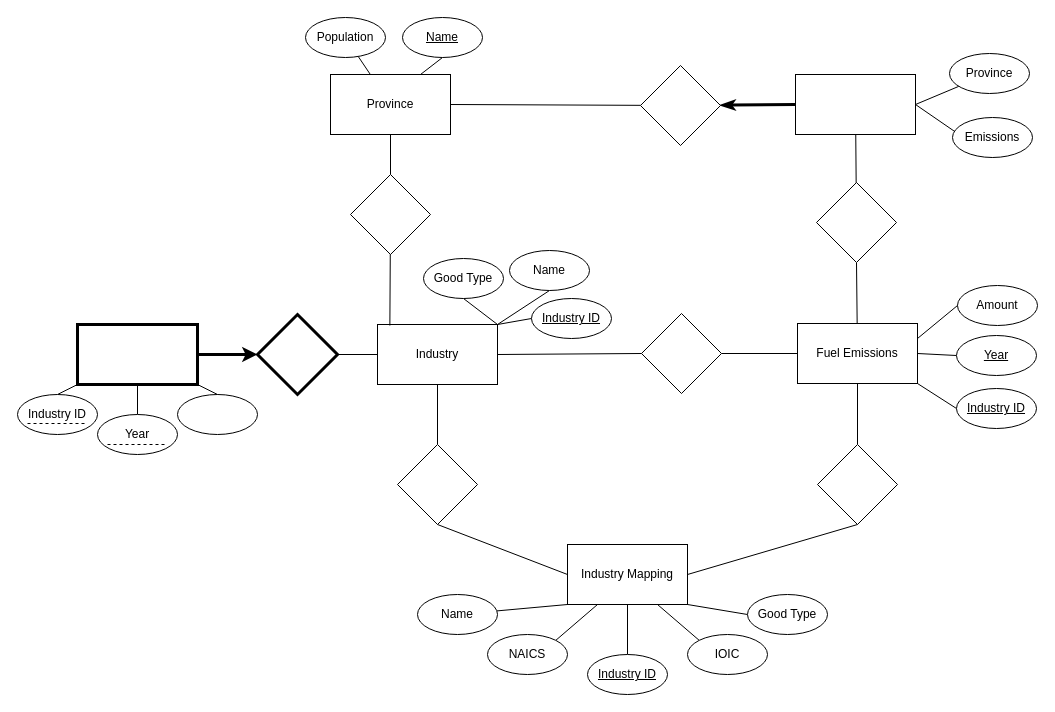
Image size: 1055x712. Some labels were removed from this diagram. Each missing label, with the centre of its shape:
"Employee" belongs at (137,354).
"Generates" belongs at (681,353).
"Has IOIC Mapping" belongs at (857,484).
"Has NAICS Mapping" belongs at (437,484).
"Household" belongs at (855,104).
"Invests In" belongs at (390,214).
"LocatedIn" belongs at (680,105).
"Number" belongs at (217,414).
"Produces" belongs at (856,222).
"Works in" belongs at (297,354).
